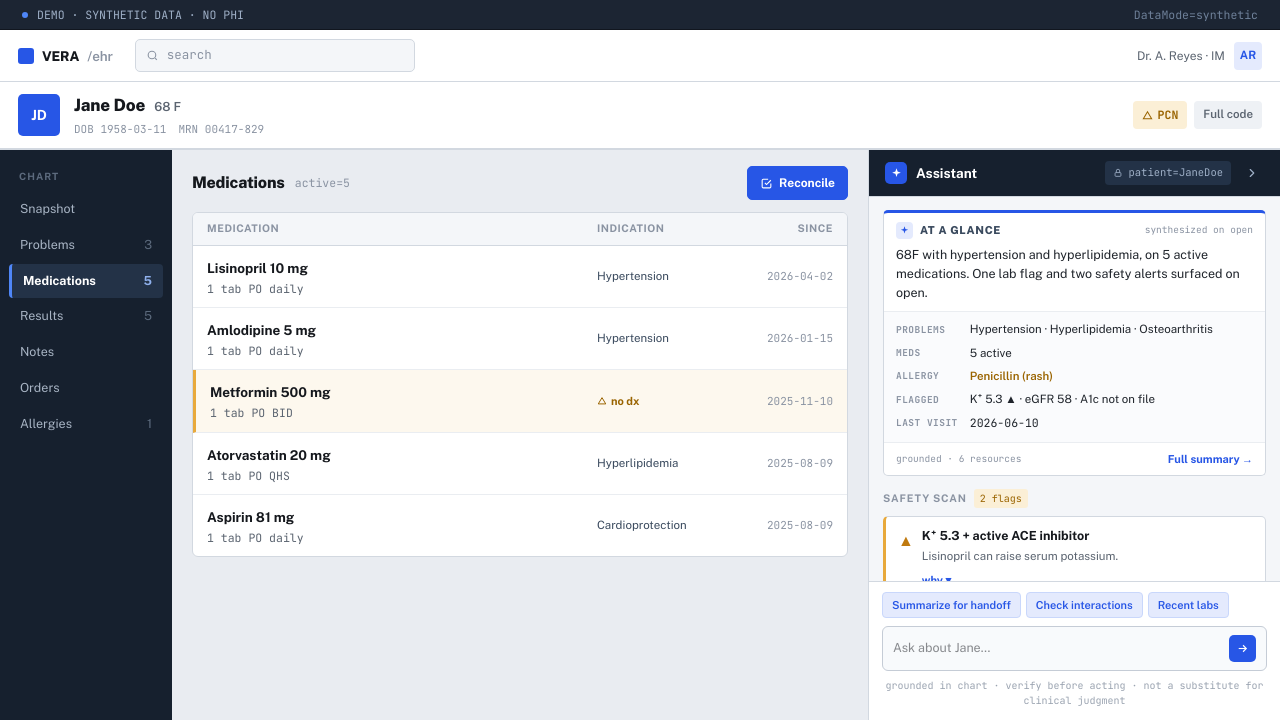
Test: Console › navigates between chart sections from the sidebar
Expected: the text "Lisinopril 10 mg" is shown, [207, 260, 308, 276]
Click the button "Problems 3".
click(86, 245)  # box [9, 228, 163, 263]
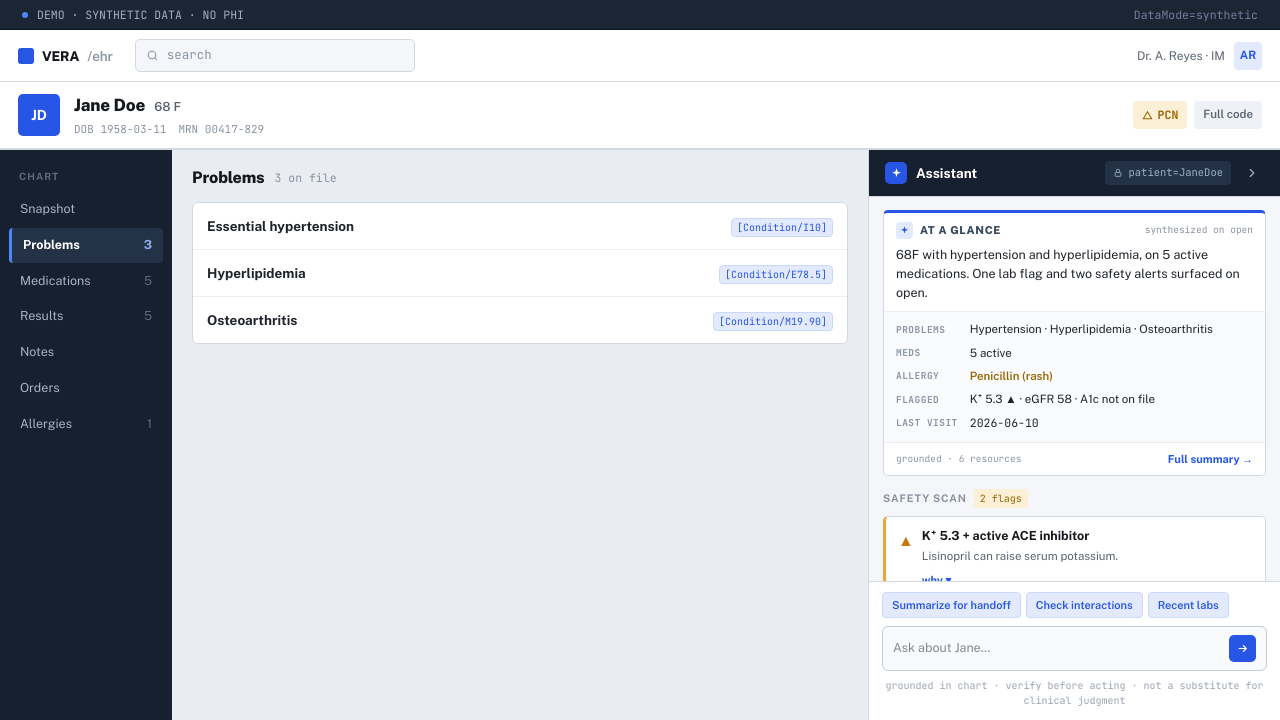
Expected: the text "Essential hypertension" is shown, [207, 216, 354, 236]
Click the button "Results 5".
click(86, 317)  # box [9, 299, 163, 334]
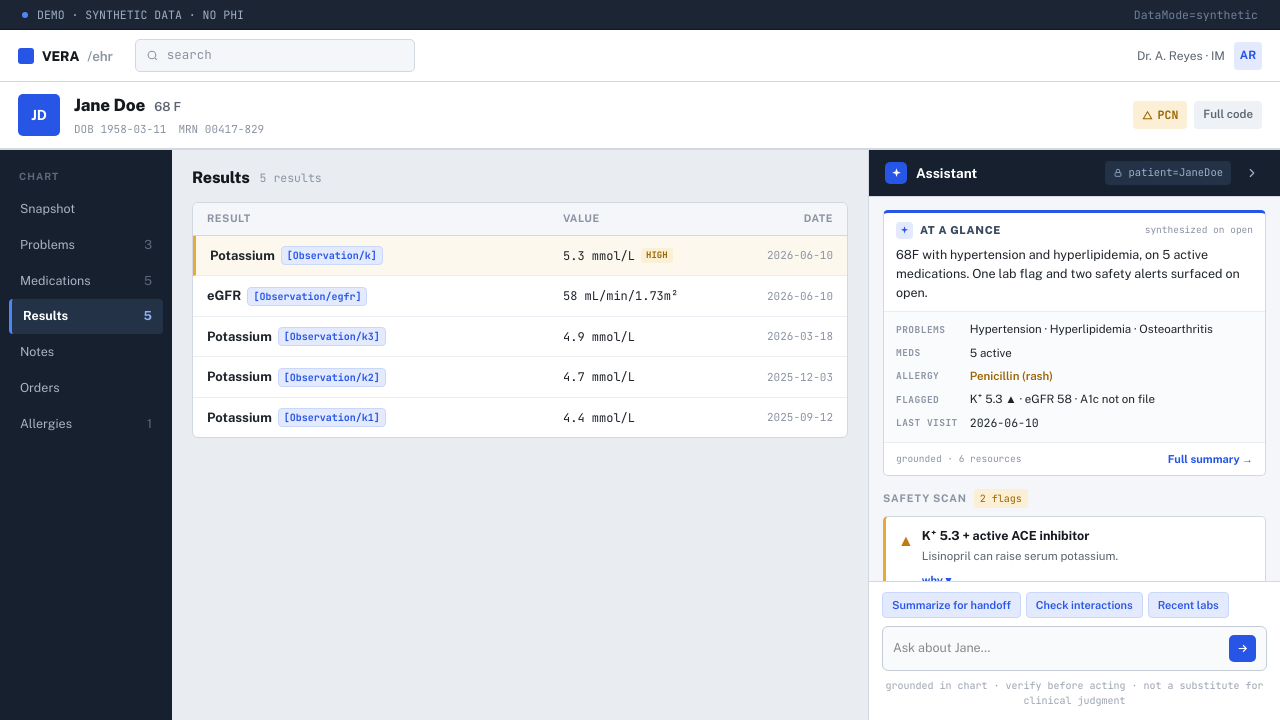
Expected: the element with test id "result-row" is shown, [193, 236, 847, 276]
Click the button "Allergies 1".
click(86, 424)  # box [9, 406, 163, 441]
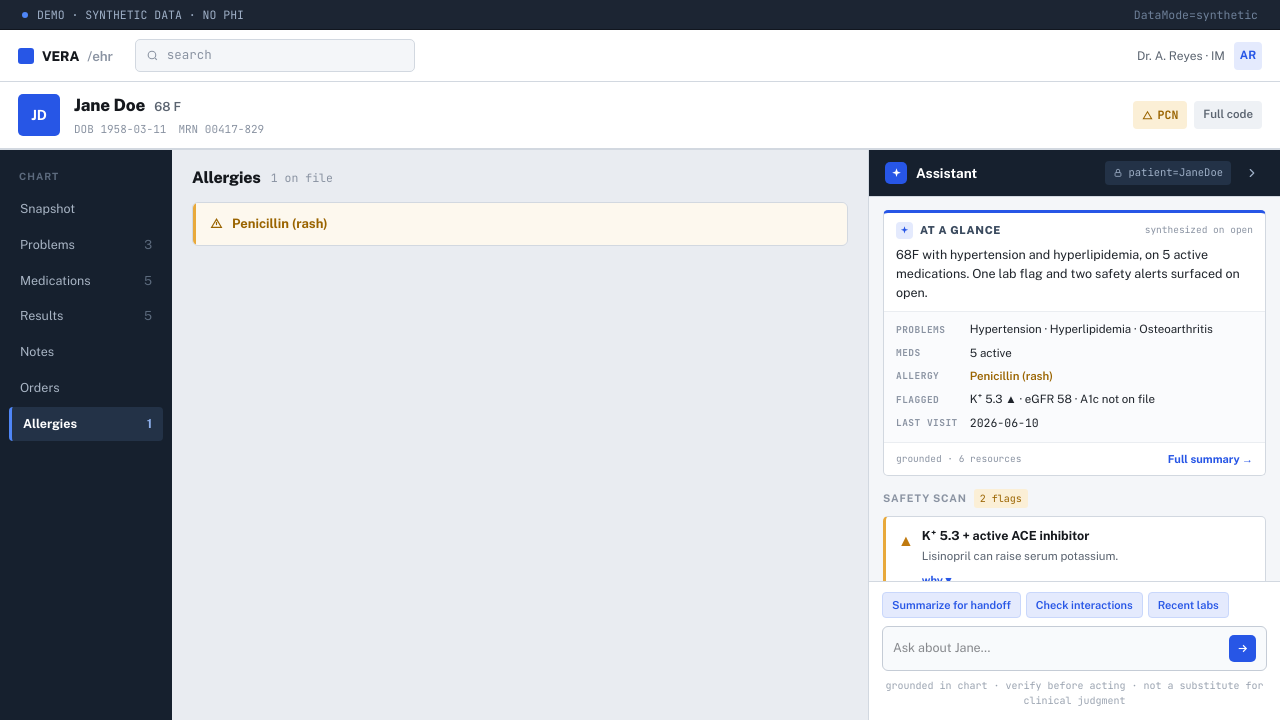
Expected: the element with test id "allergy-row" is shown, [193, 203, 847, 244]
